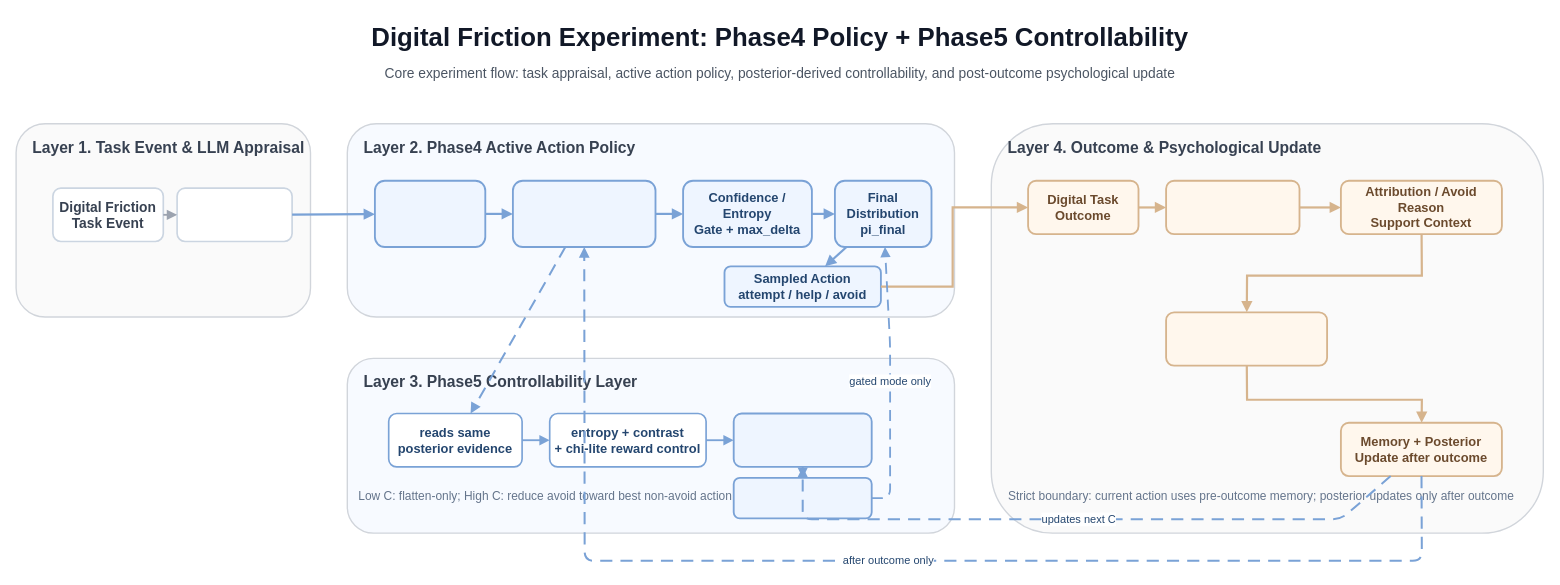
The diagram is 1560 pixels wide and 585 high, and some of its shapes have lost their labels. The centre of each missing label's shape, as x and y in pixels:
"Action-Outcome Posterior P(o | family, action)" belongs at [584,213].
"C_family / C_global diagnostic trace" belongs at [802,439].
"Event-level Uncontrollability" belongs at [1232,207].
"Helplessness / Self-efficacy Scope Spillover" belongs at [1246,338].
"LLM Appraisal difficulty / risk / value" belongs at [234,214].
"Semantic Reference Policy pi_ref" belongs at [430,213].
"shadow audit or gated modulation uses C_before_event" belongs at [802,498].
